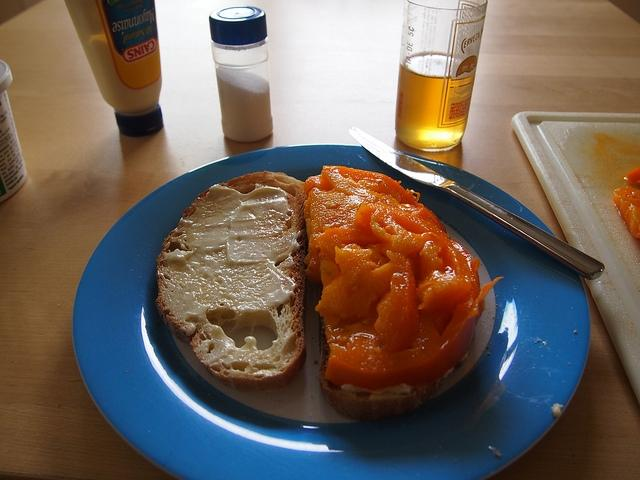tomato: (323, 238, 505, 392), (303, 166, 447, 274), (356, 204, 471, 312), (374, 250, 421, 352), (613, 186, 640, 238), (367, 243, 390, 268), (624, 168, 640, 186)
